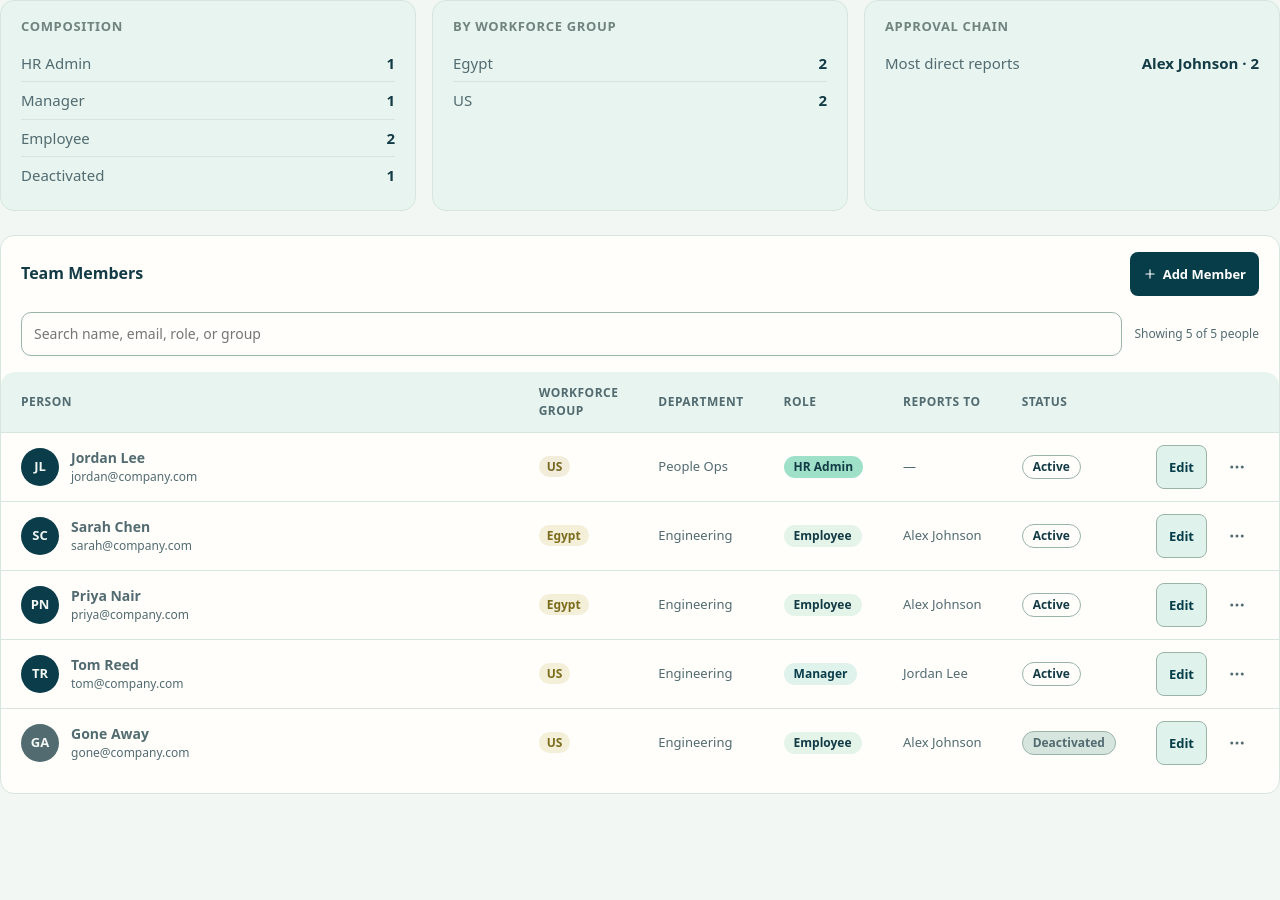
TeamMembersCard accessibility ATDD — Story 10.10 › supporting band › summarises the roster, not the current search
Expected: the row with test id "team-member-row-1" is shown, [1, 432, 1279, 501]
In the search field with test id "team-members-search": (572,334) [21, 312, 1122, 356], type "Priya"
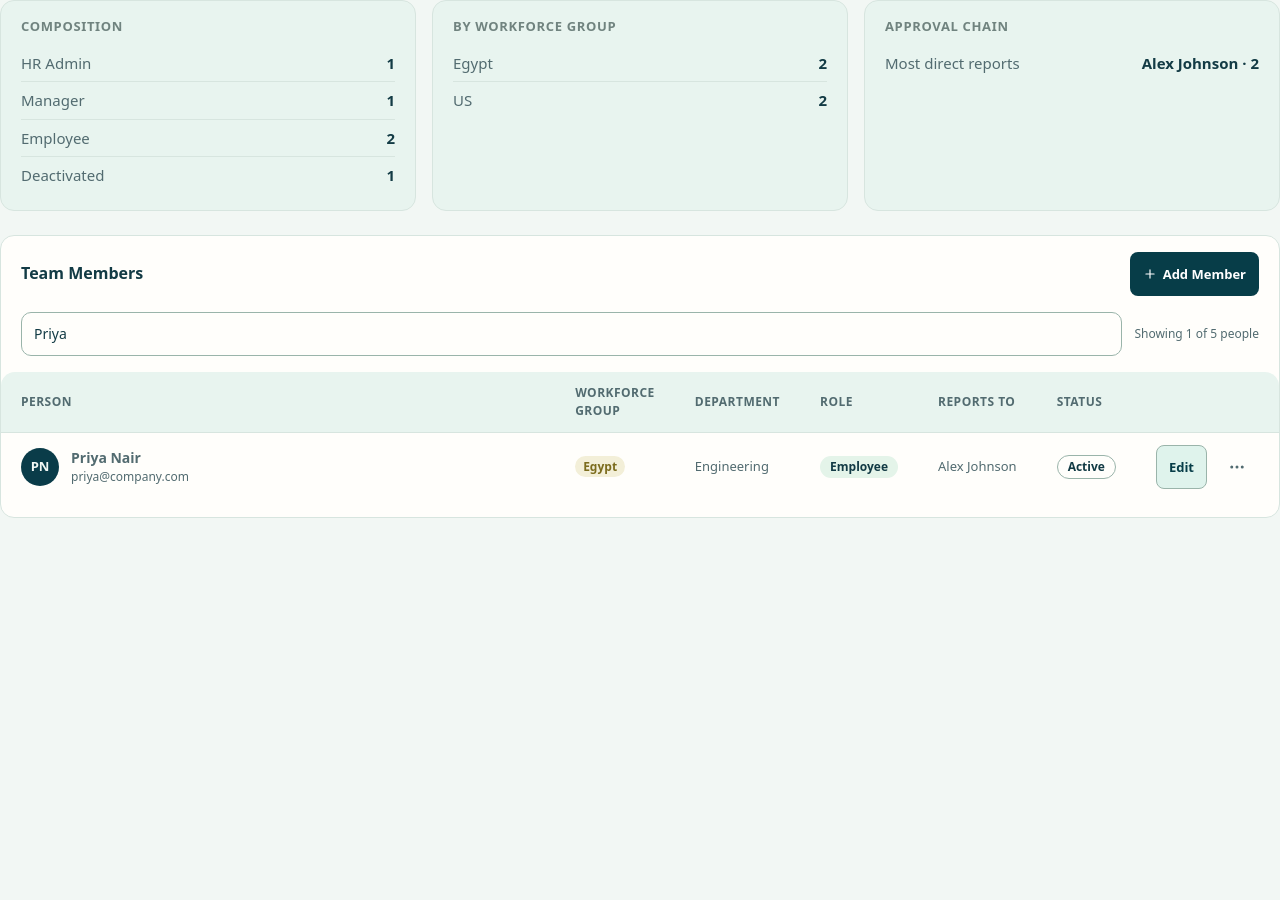
Expected: the text with test id "members-role-EMPLOYEE" reads "2", [386, 128, 395, 148]
Result: the message reads "Showing 1 of 5 people" at [1134, 324, 1259, 342]
